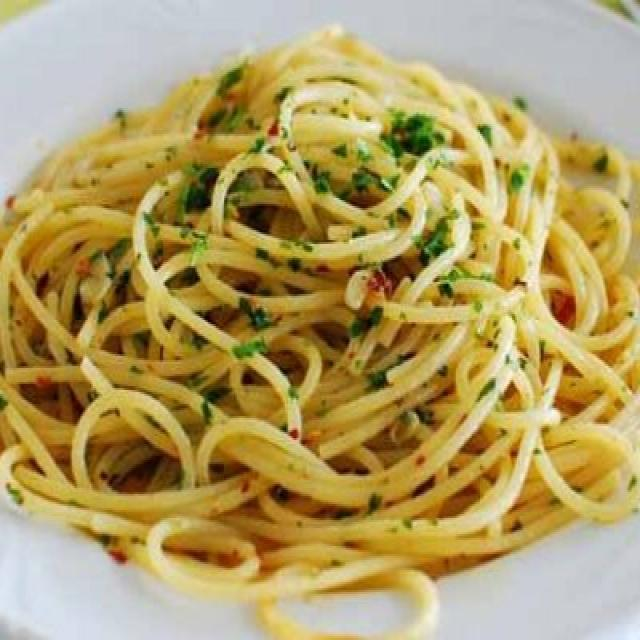Oil pasta: (21, 34, 623, 592)
